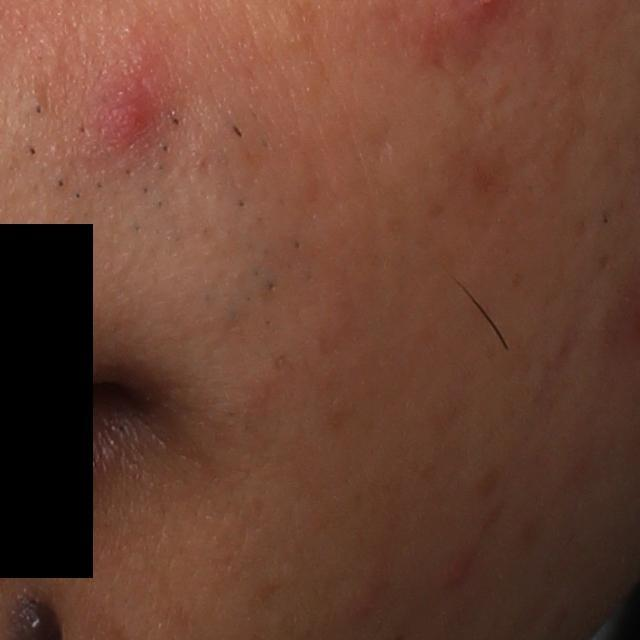papule: (87, 65, 161, 158), (441, 548, 480, 585)
